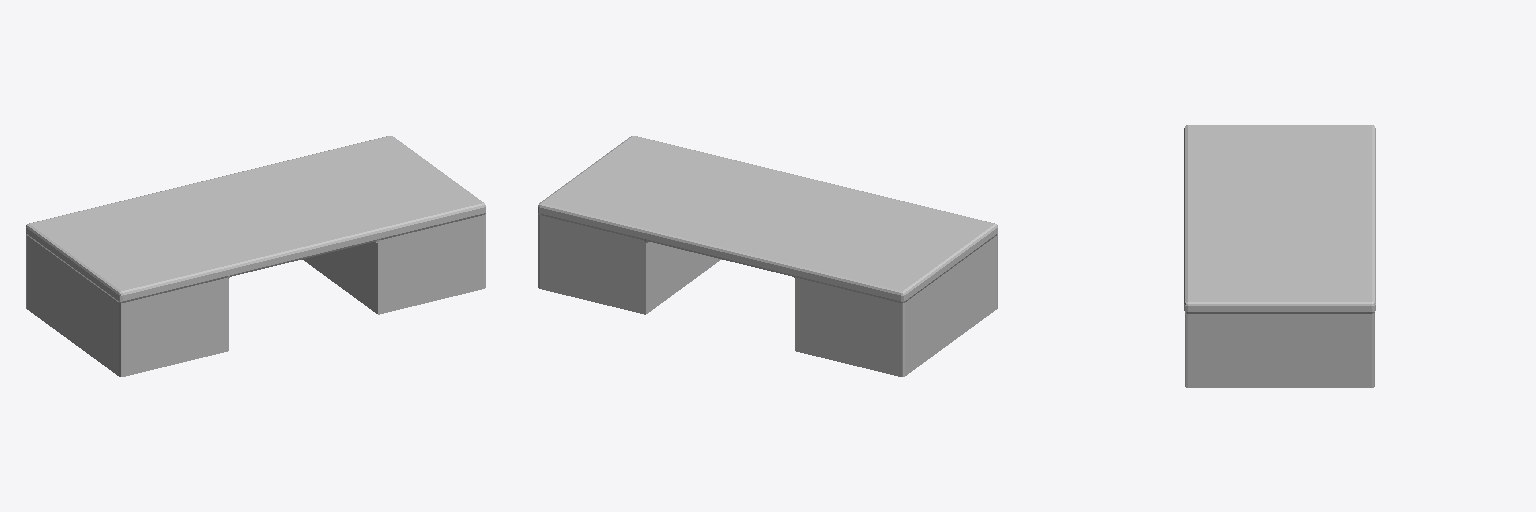
Rendered from Table2.obj.
3 renders of one model, left to right at view 1: azimuth 30°, elevation 25°; view 2: azimuth 150°, elevation 25°; view 3: azimuth 270°, elevation 25°, orthographic.
Visible parts, largest first — view 1: pCube2; view 2: pCube2; view 3: pCube2.
Boxes of the visible parts, <box> form: pCube2: <box>26,136,485,376</box>; pCube2: <box>538,136,997,376</box>; pCube2: <box>1184,125,1375,387</box>.
Size of the model in its own units: 13.81 by 3.05 by 6.22.